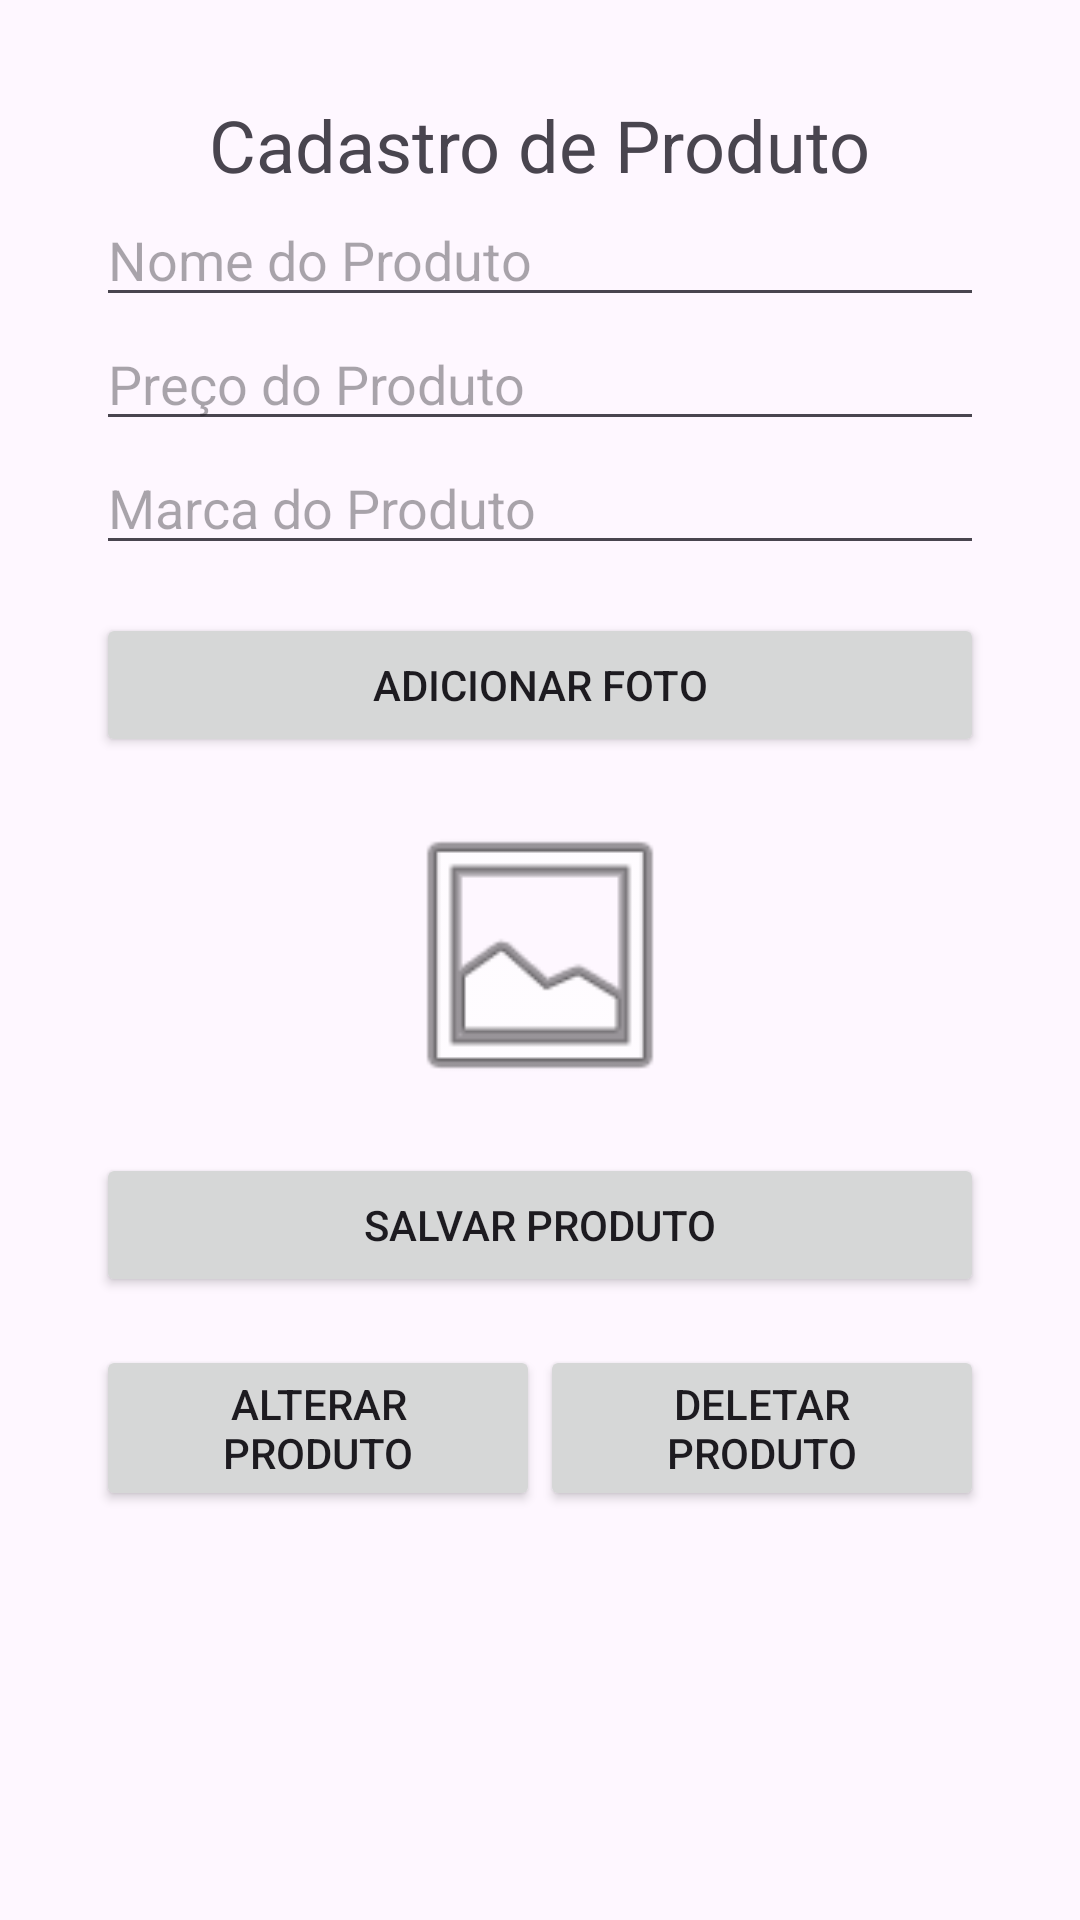

Icons on this 1080 x 1920 Android screen, each with its box as (x1=x1, y1=y1, x2=x2, y2=y2):
gallery: (x1=427, y1=842, x2=653, y2=1068)
